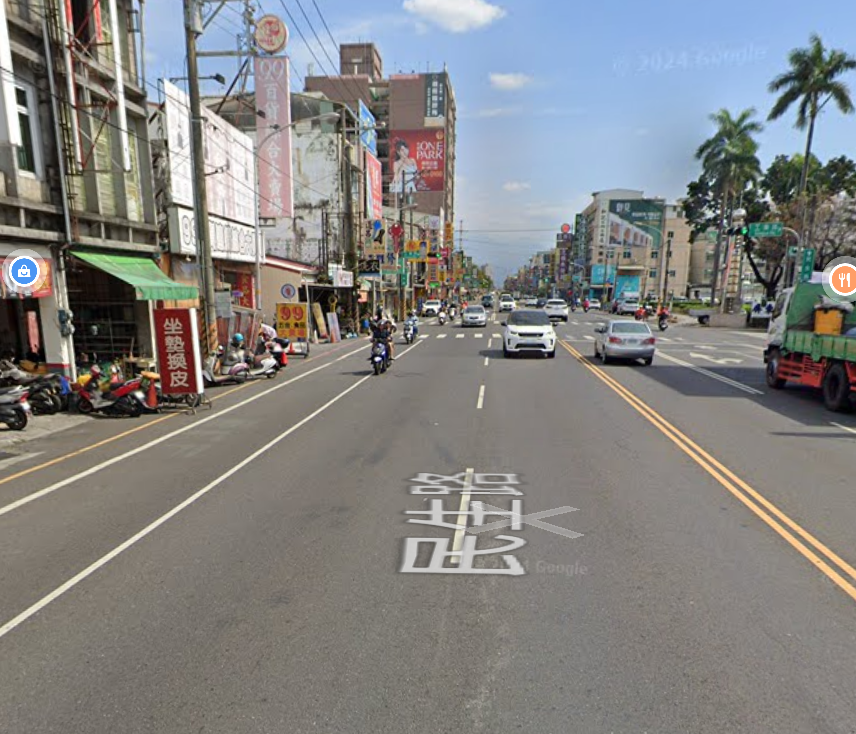green: (723, 223, 749, 236), (427, 249, 443, 259)
